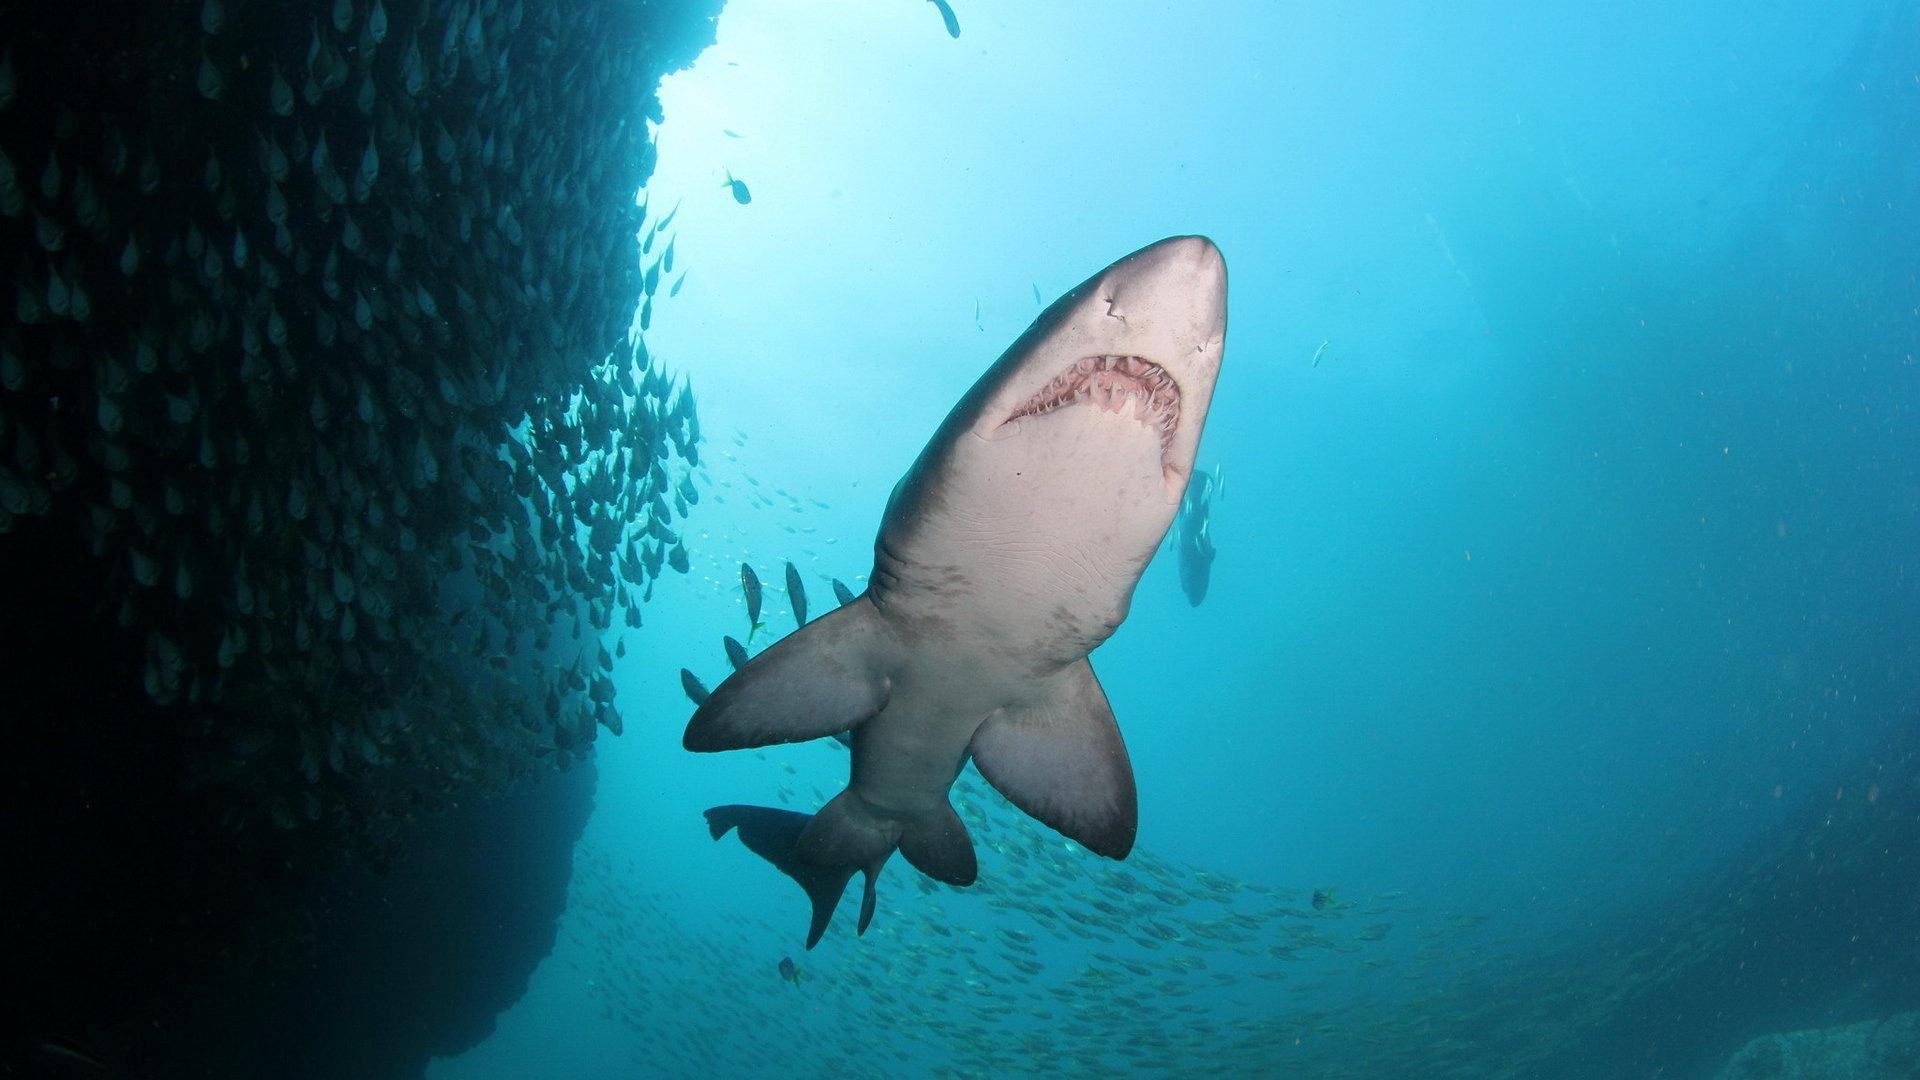fish: (651, 222, 1267, 951)
